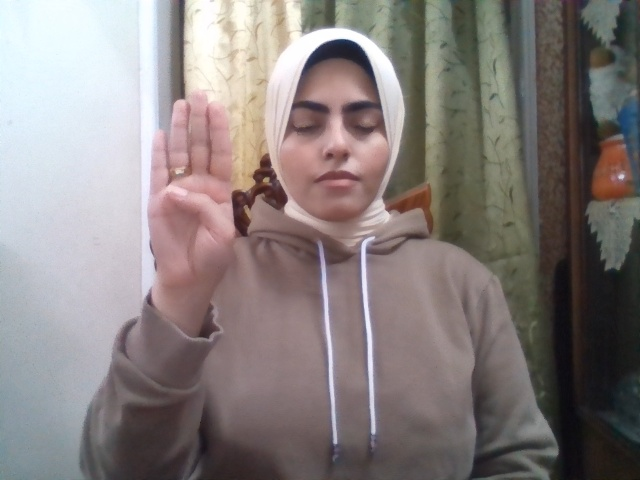B: (149, 90, 235, 295)
